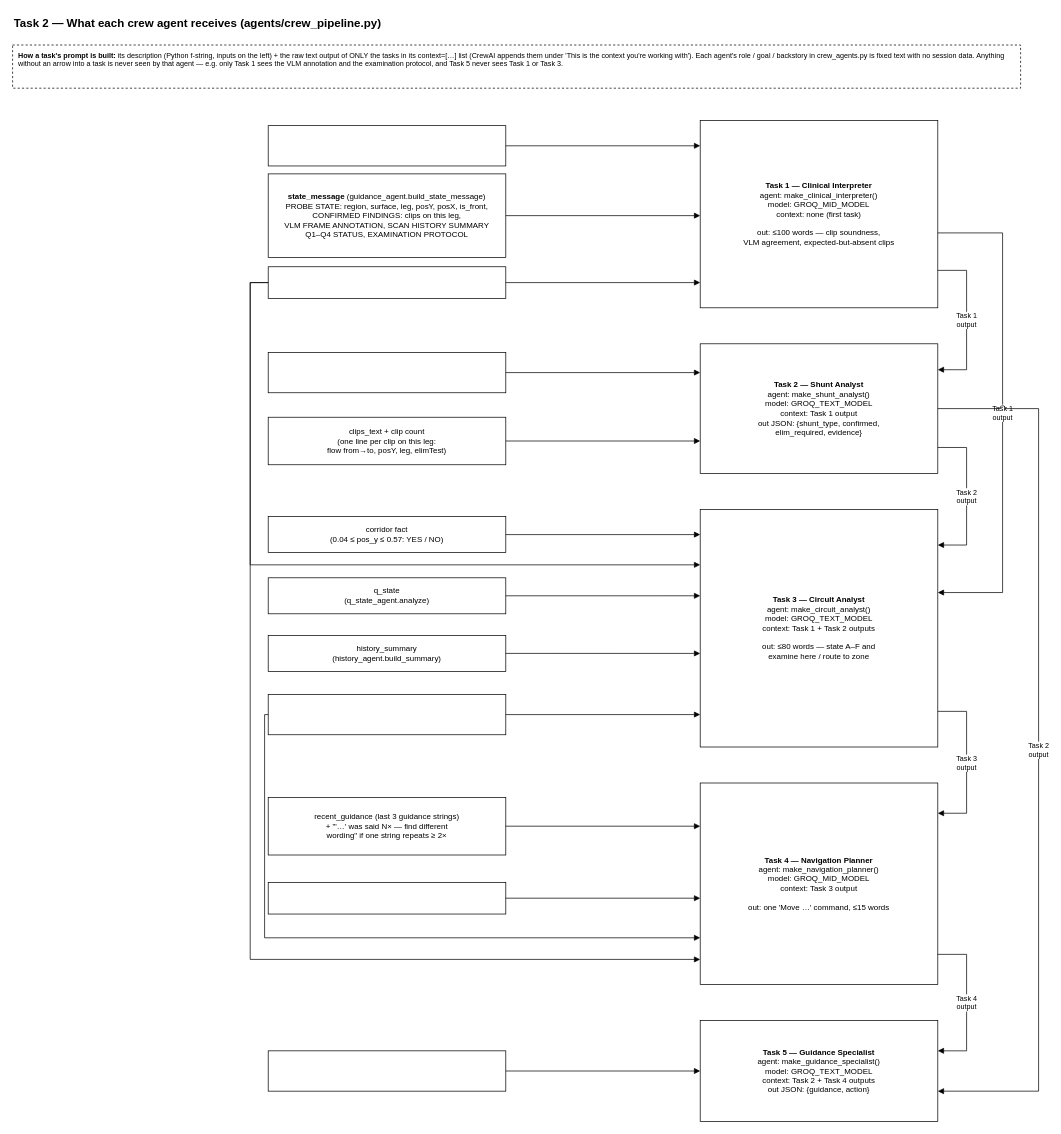
This 1061x1134 diagram has some shape labels left out. Here are the shapes that lost their labels. From the top down, the box of each, then its label:
(267, 125, 506, 166): rejection_ctx (last 3 surgeon rejection notes, or empty)
(267, 266, 506, 298): pos_y + current_zone (_zone_name)
(267, 352, 506, 393): accepted_ctx (surgeon-accepted shunts, or empty)
(267, 694, 506, 735): overused_zones (zones named ≥ 2× in recent guidance; 'none' once Q1 is answered)
(267, 882, 506, 914): len(clips) — number of clips
(267, 1050, 506, 1091): accepted_shunts list (used in the 'complete' action rule)
